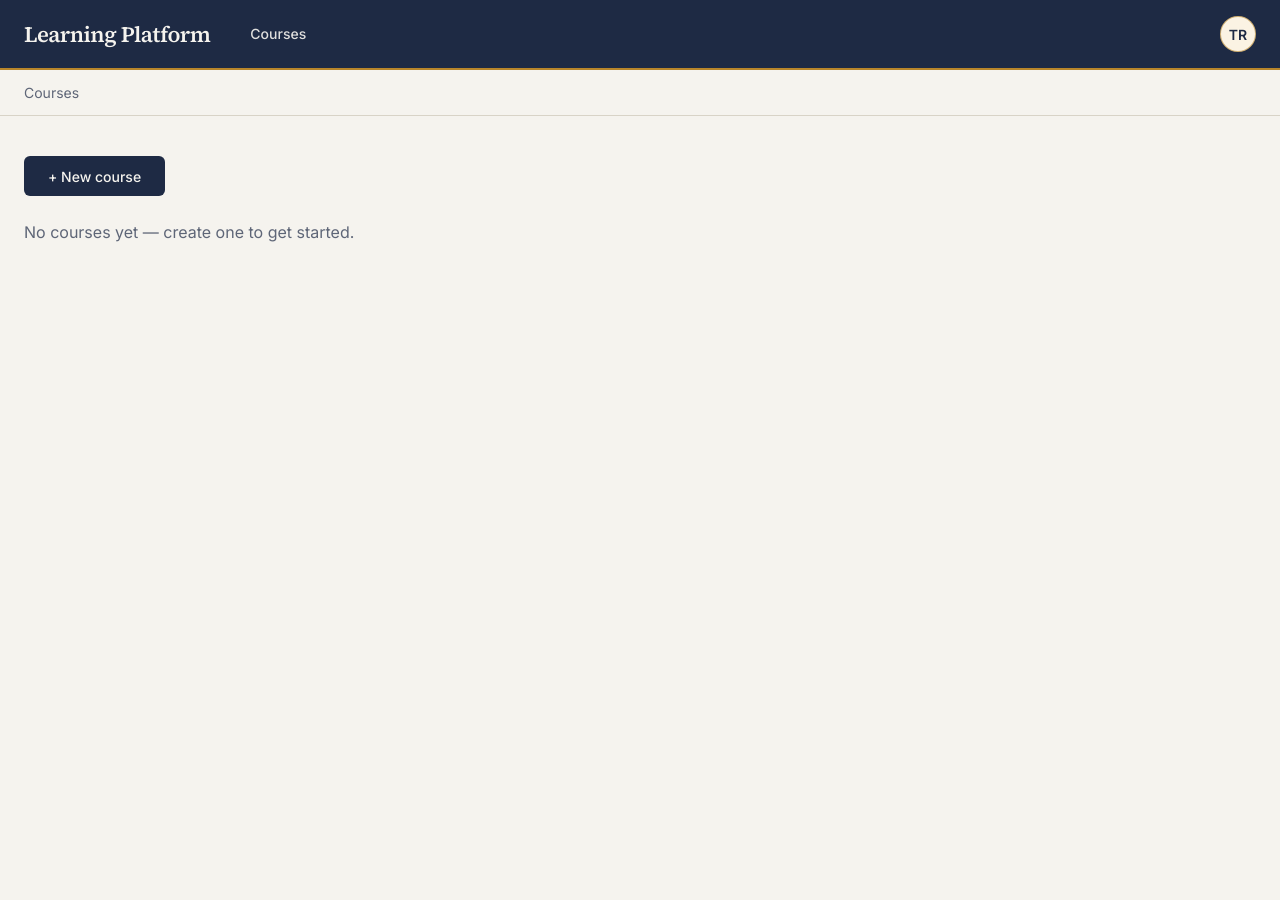
Test: CourseDashboardPage (COURSE-001) › opens a "New course" form, submits it, and refreshes the list
Check: the text "No courses yet — create one to get started." is shown, box [24,222,354,242]
opening the form and submitting a name
Click the button "+ New course". click: click(95, 176)
box: [24,156,165,196]
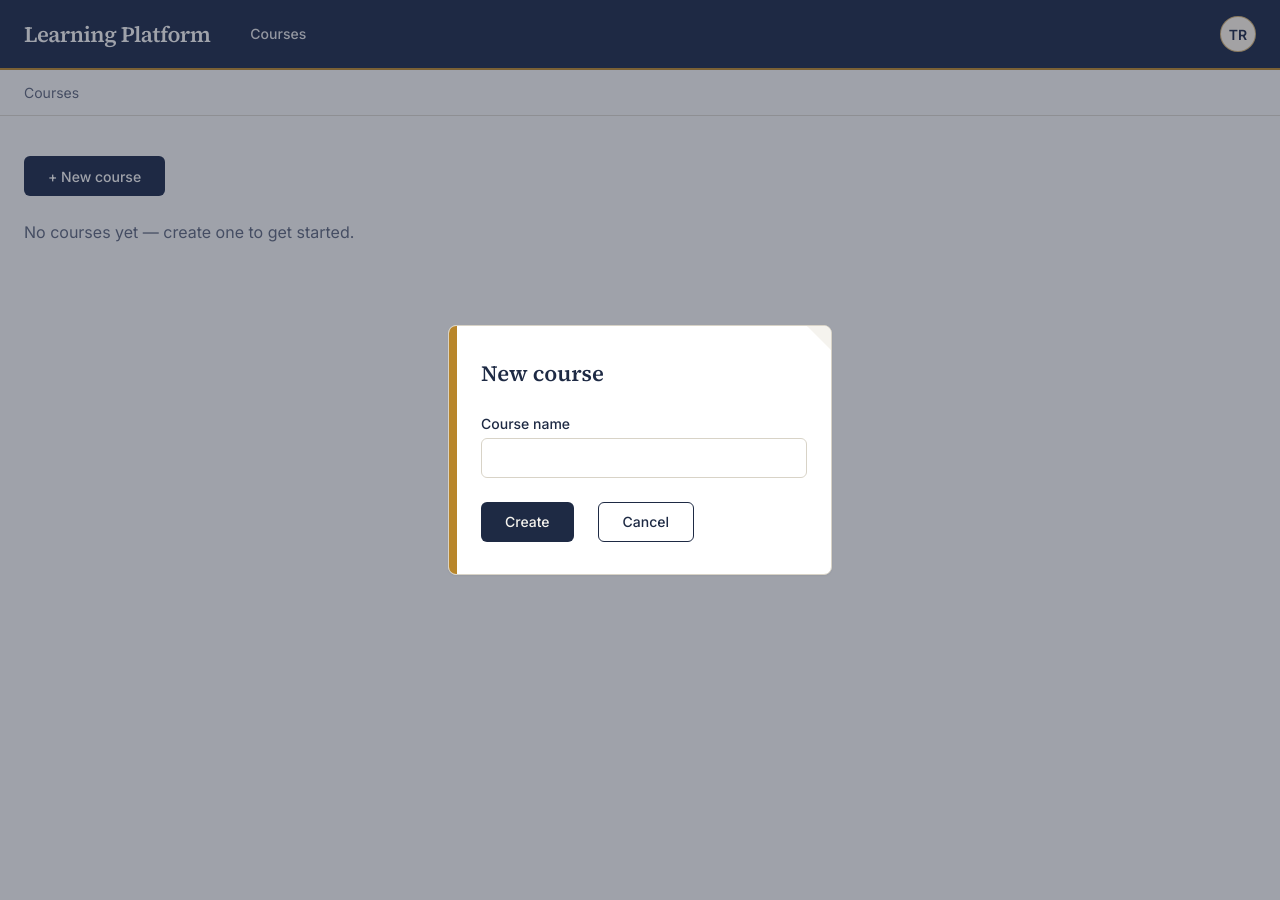
Type "Onboarding basics" into the field labelled "Course name". click: (644, 458)
box: [481,438,807,478]
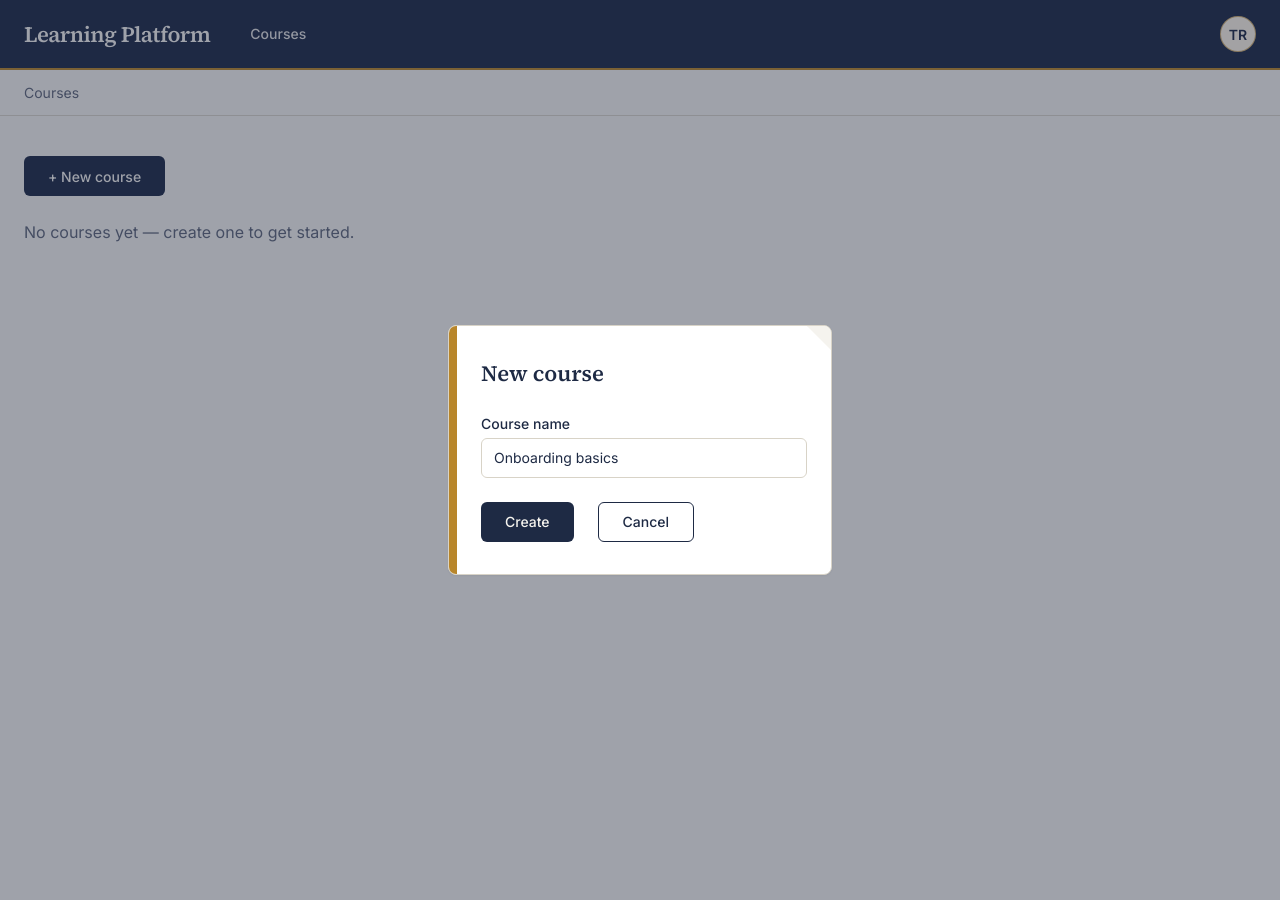
Click the button "Create". click: click(527, 522)
box: [481,502,574,542]
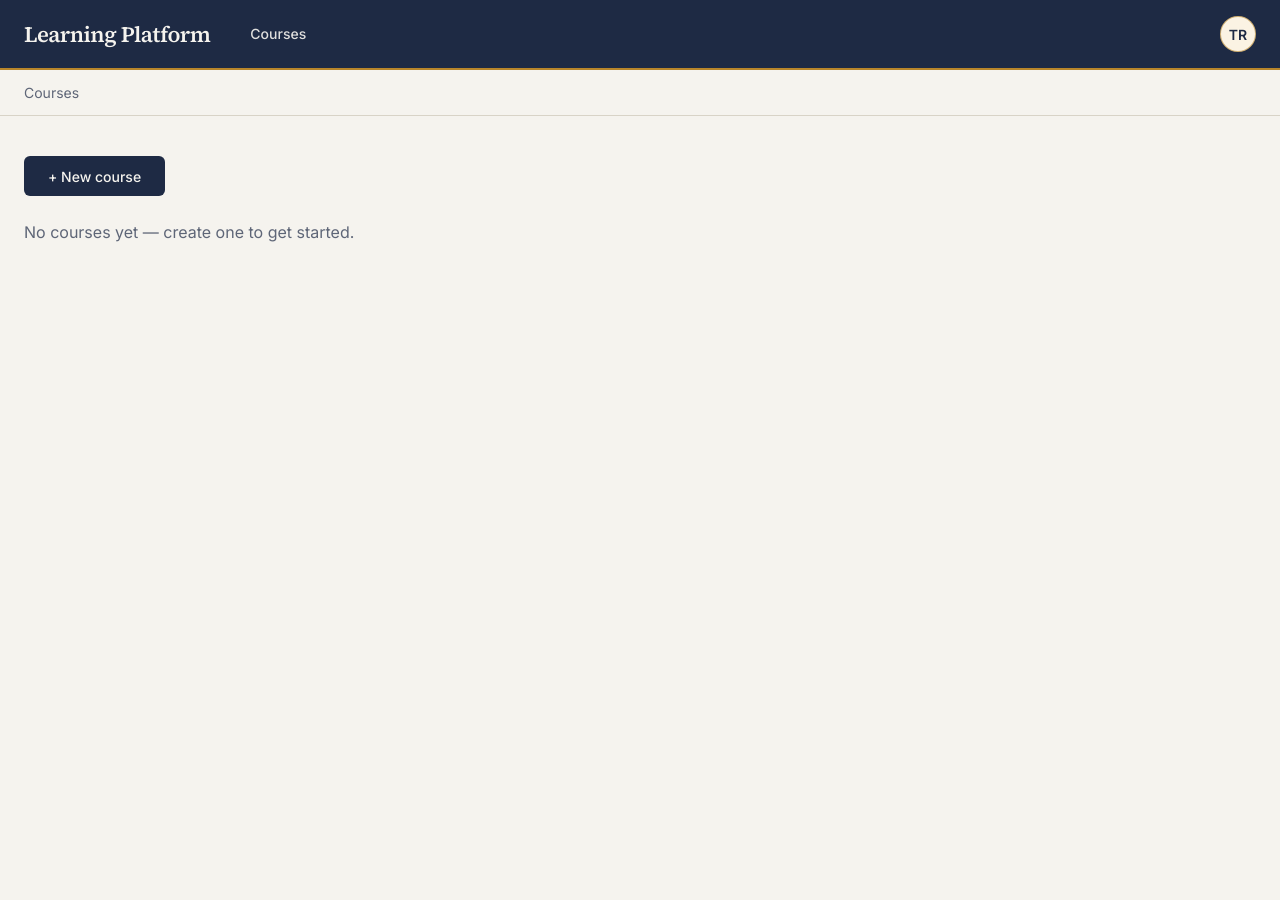
Check: the dialog is gone
